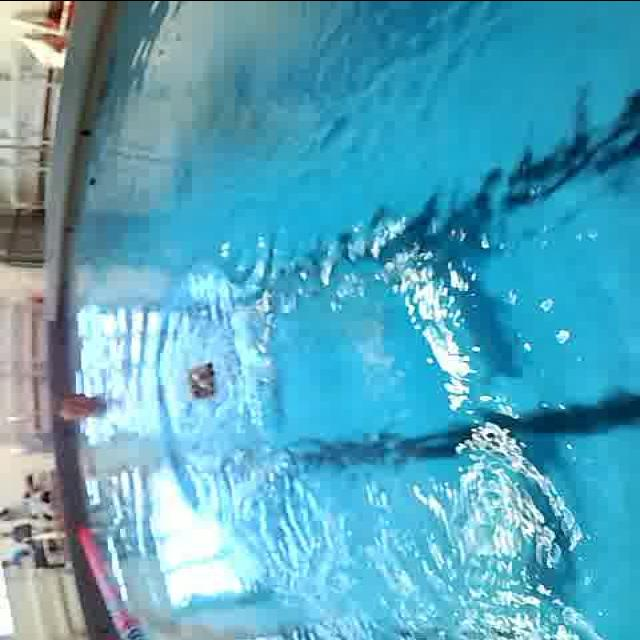CamMount: (177, 358, 225, 402)
